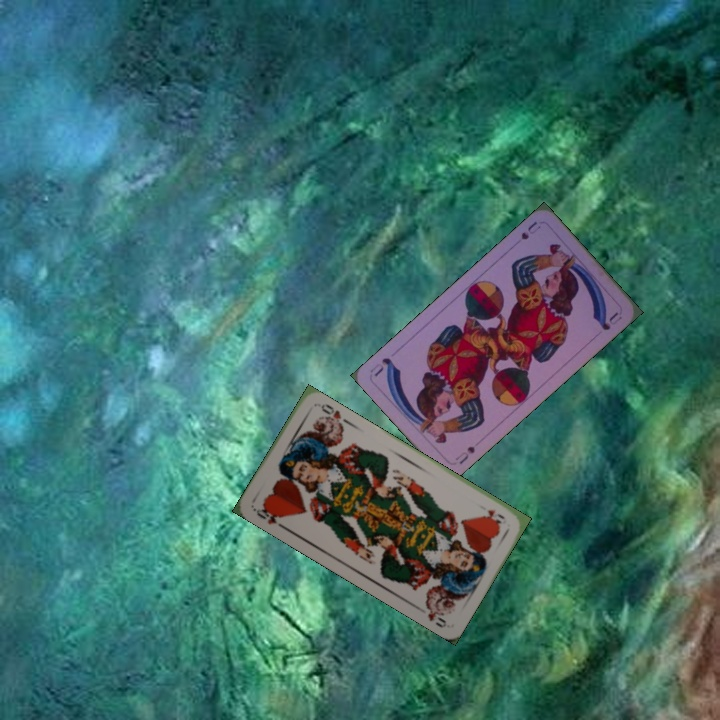HO: (250, 501, 287, 531), (483, 505, 507, 526)
SU: (451, 442, 478, 467), (517, 217, 543, 242)
